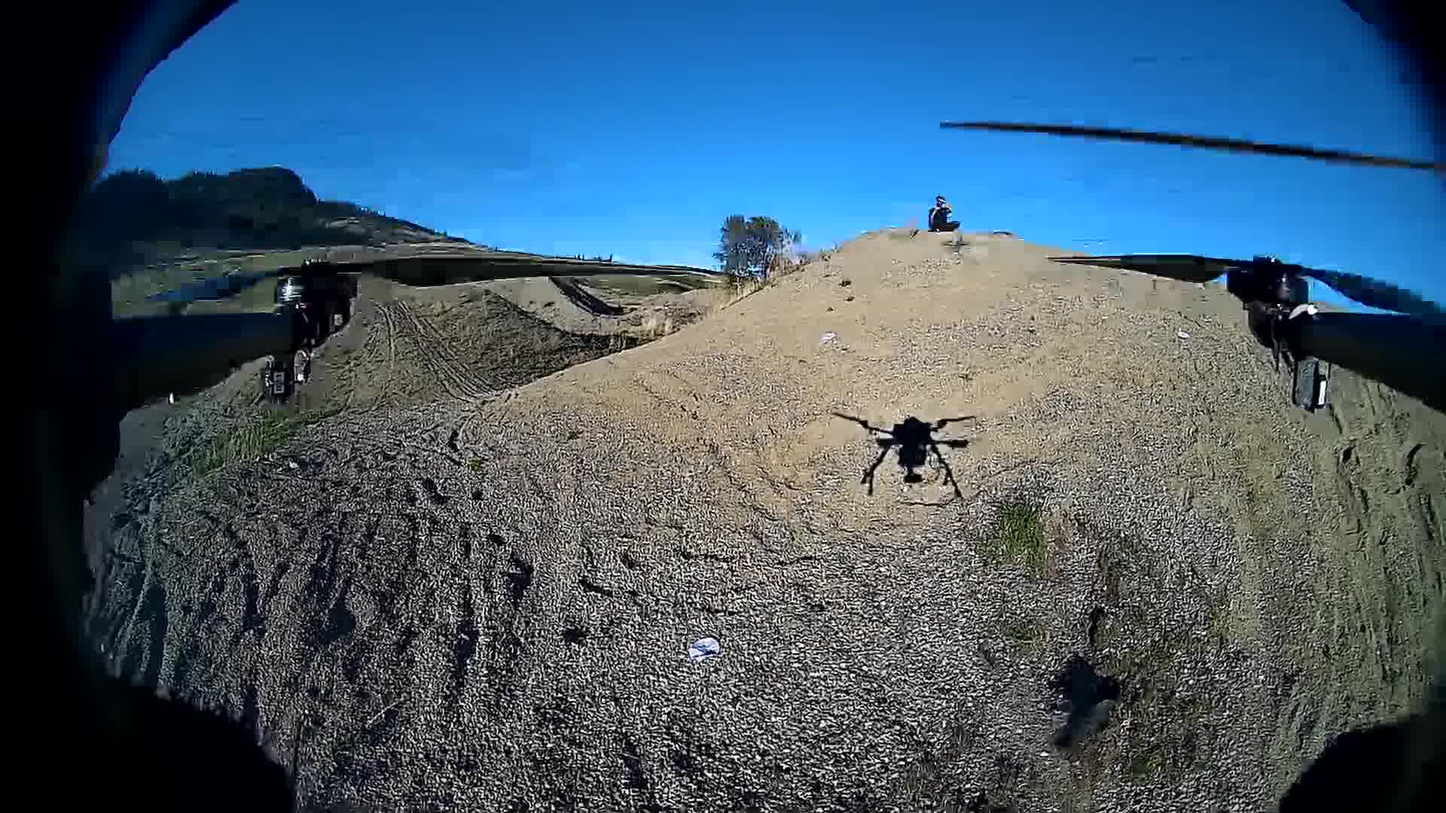Target: (689, 637, 719, 661)
